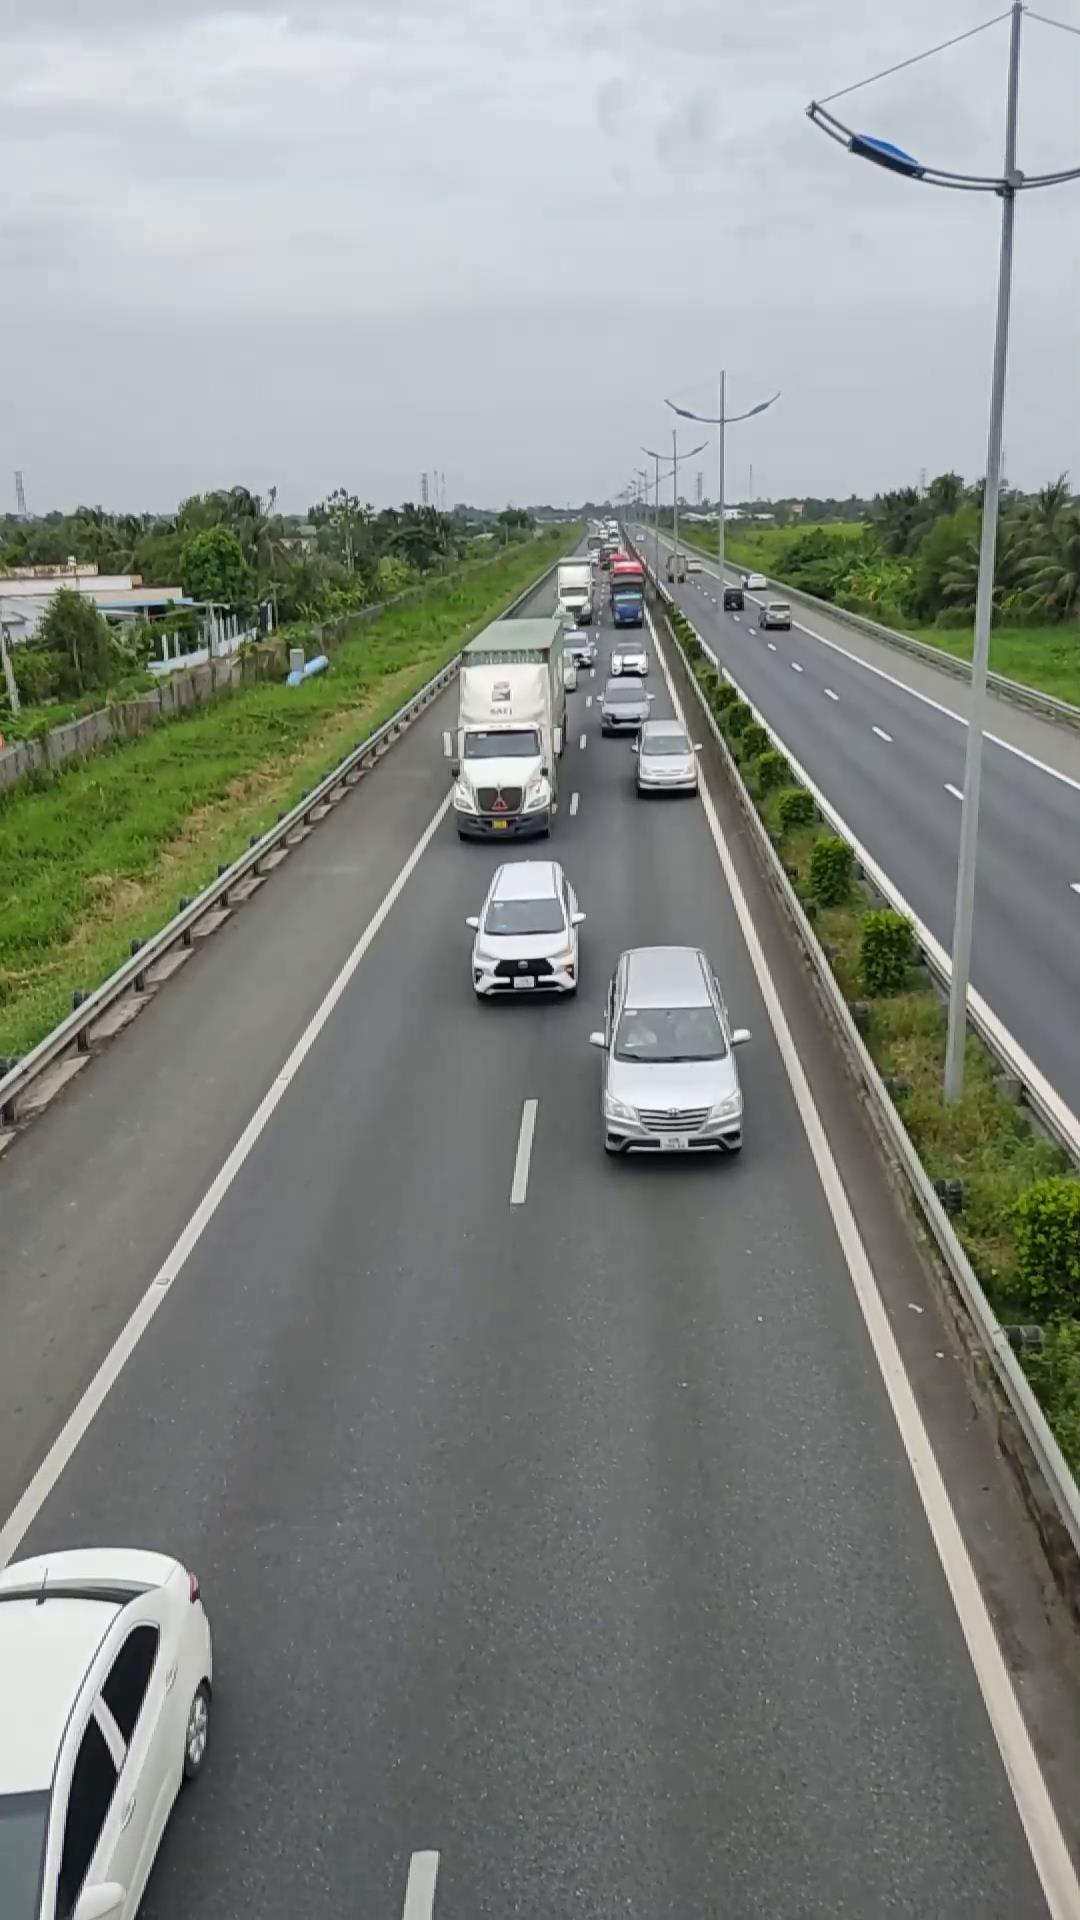car: (0, 1545, 218, 1917), (593, 943, 746, 1156), (465, 857, 585, 1001), (632, 721, 702, 795)
container: (446, 615, 572, 839)
